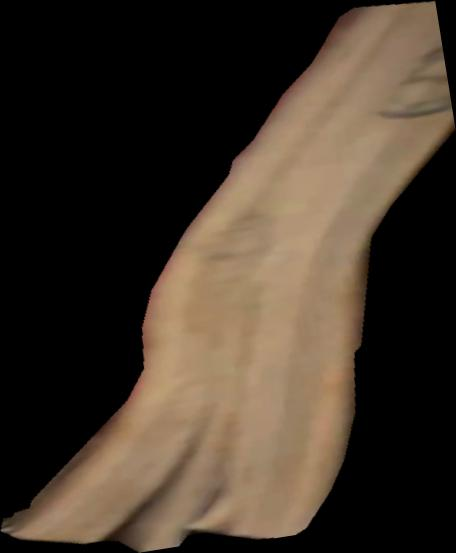backward: (1, 1, 456, 553)
